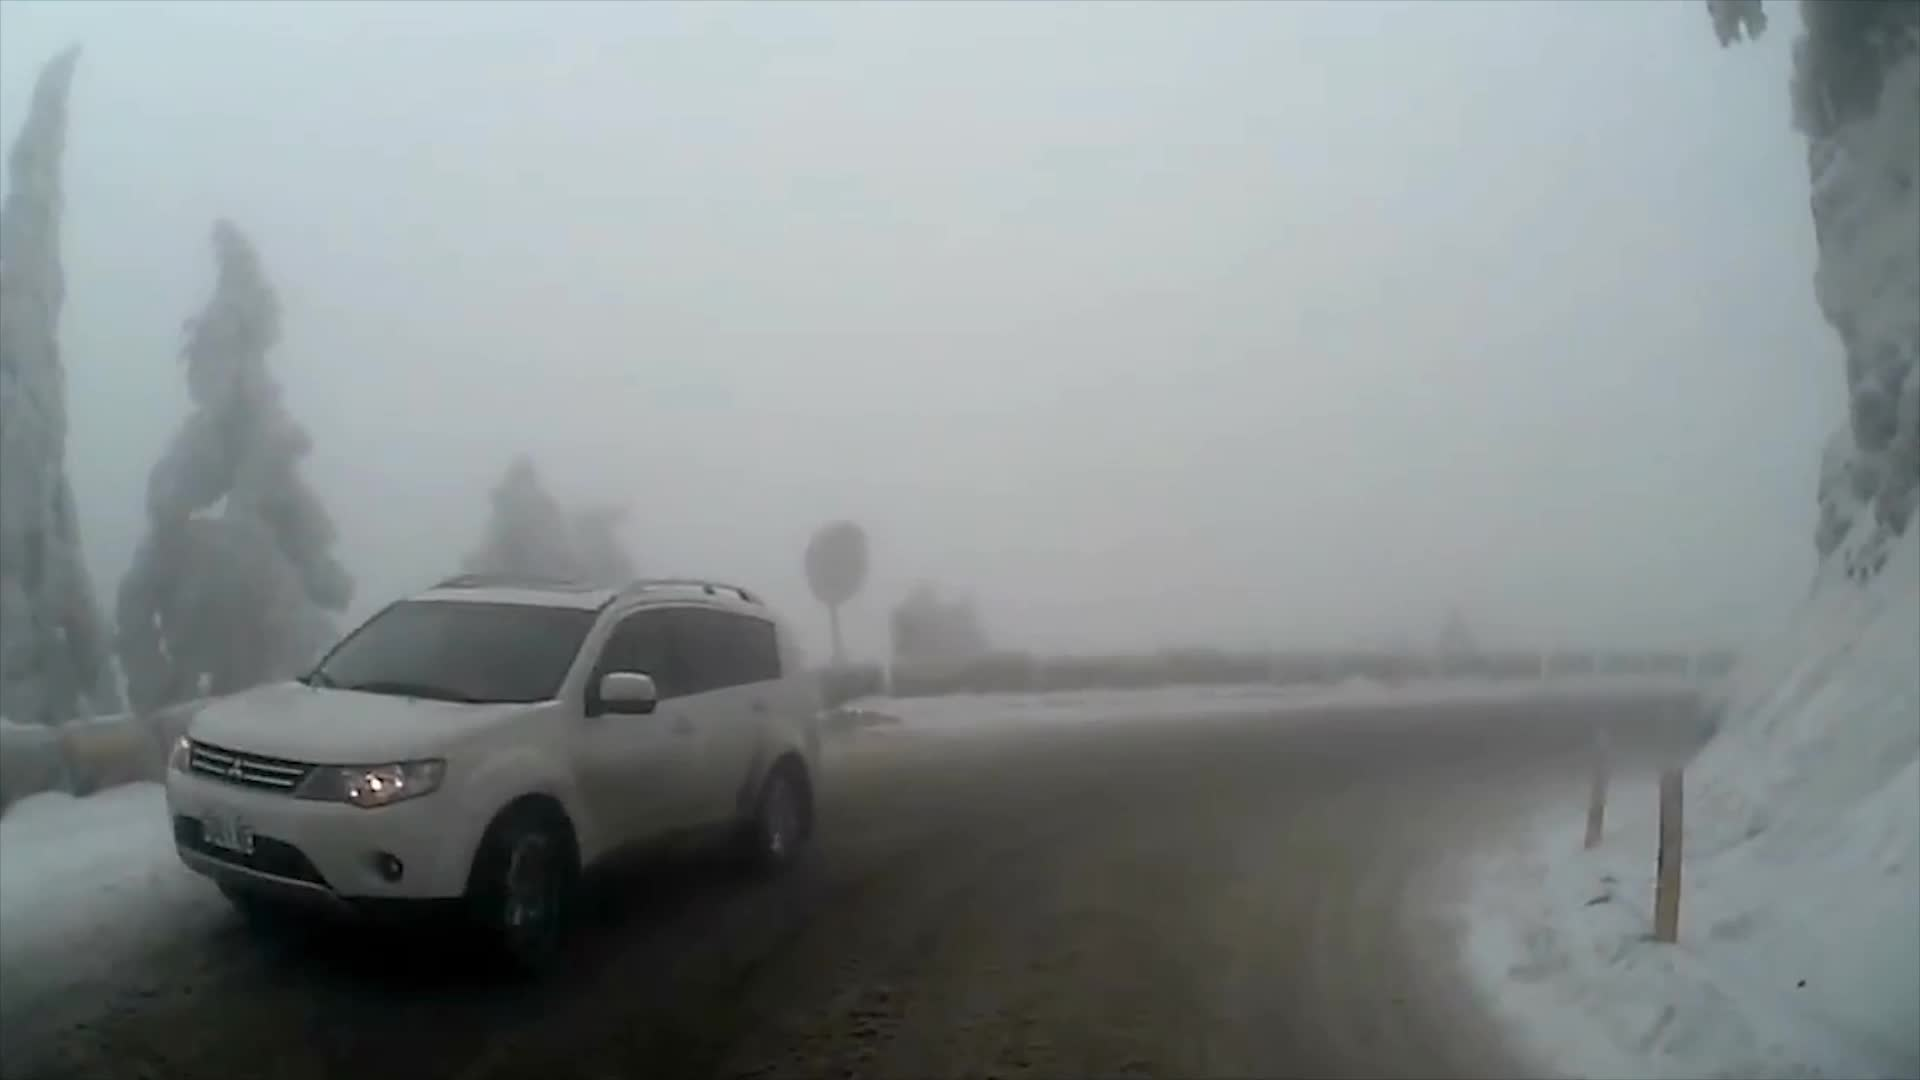vehicle: (160, 572, 820, 963)
